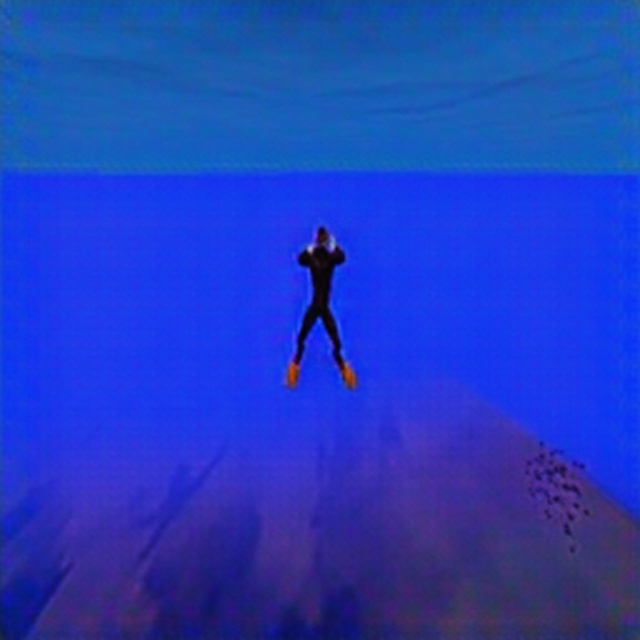diver: (284, 222, 358, 393)
